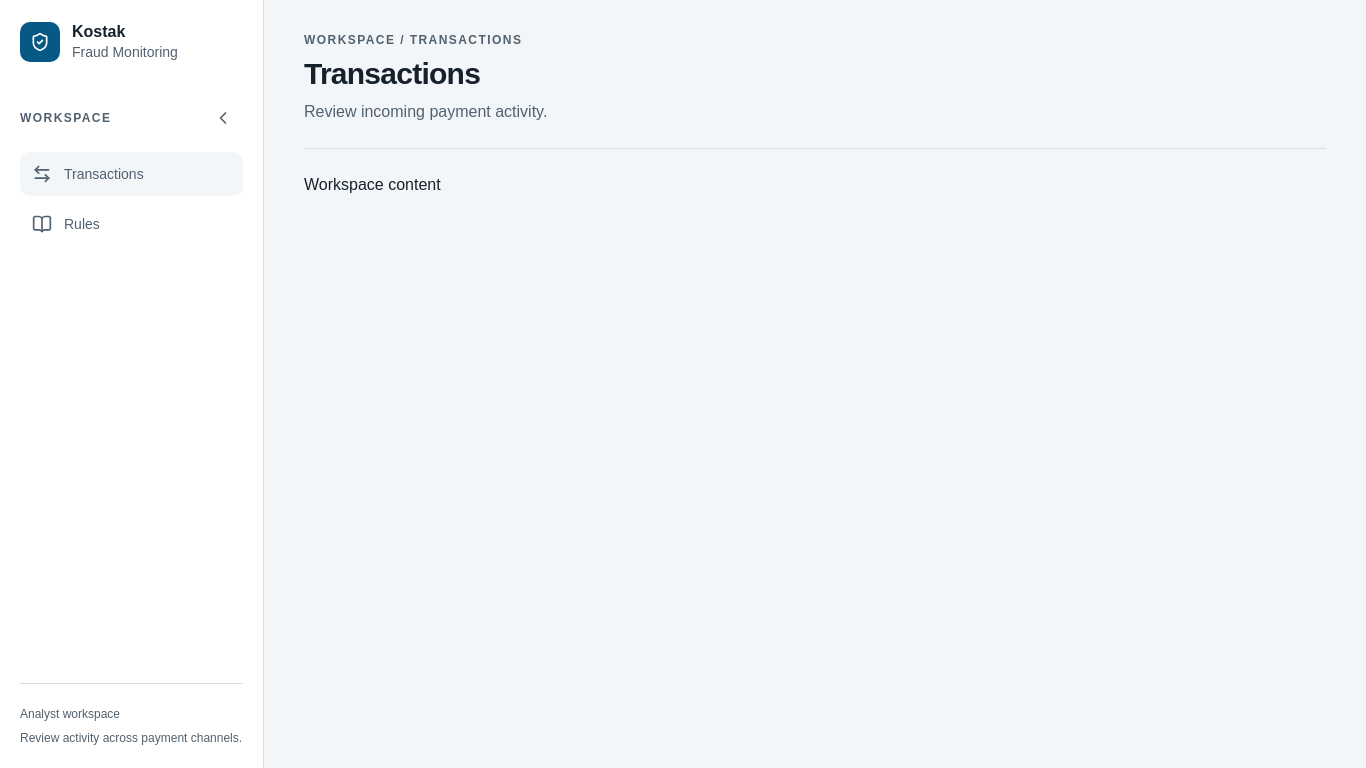
AppShell › collapses and expands the sidebar with an accessible state
This screenshot has width=1366, height=768.
Click the button named "Collapse sidebar": (223, 118) x1=203 y1=98 x2=243 y2=138
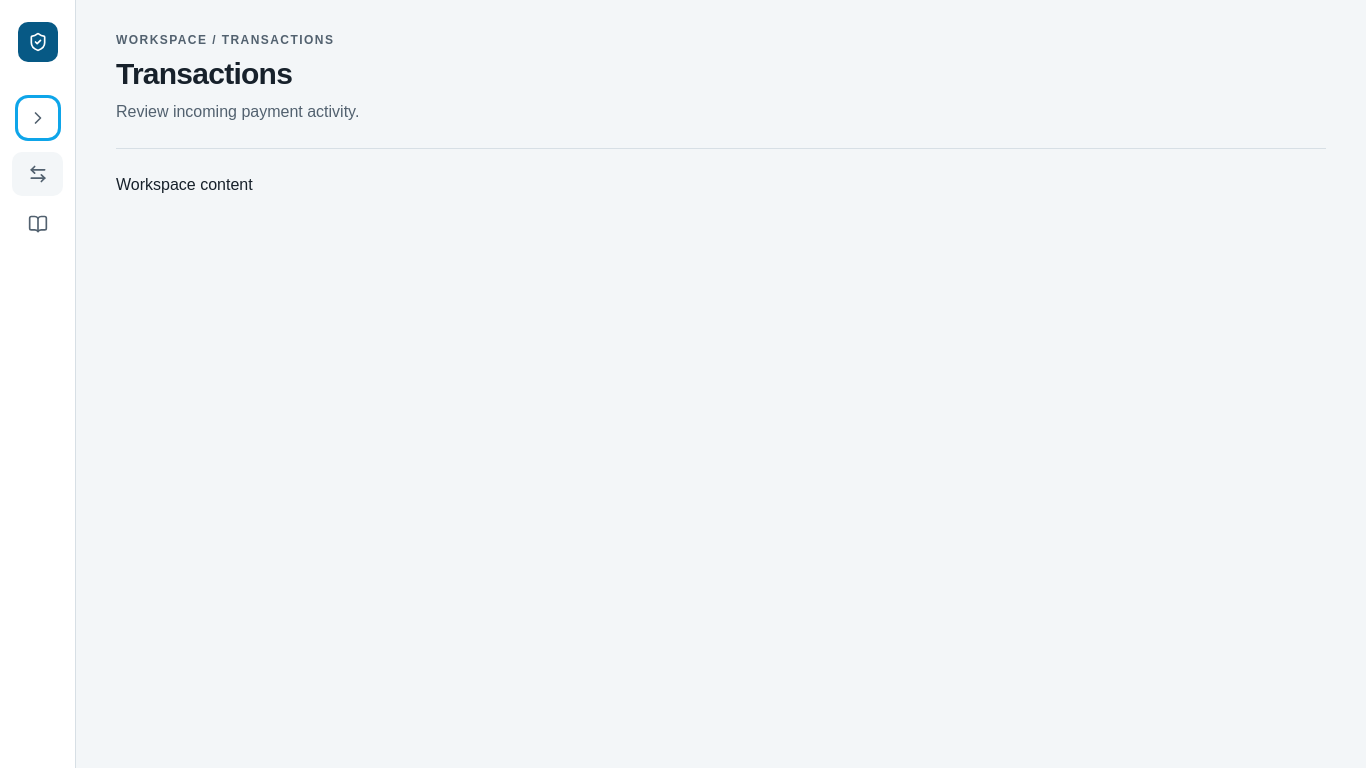
Check: the link named "Transactions" is shown, box x1=12 y1=152 x2=63 y2=196
Check: the button named "Expand sidebar" is collapsed
Click the button named "Expand sidebar": (38, 118) x1=18 y1=98 x2=58 y2=138
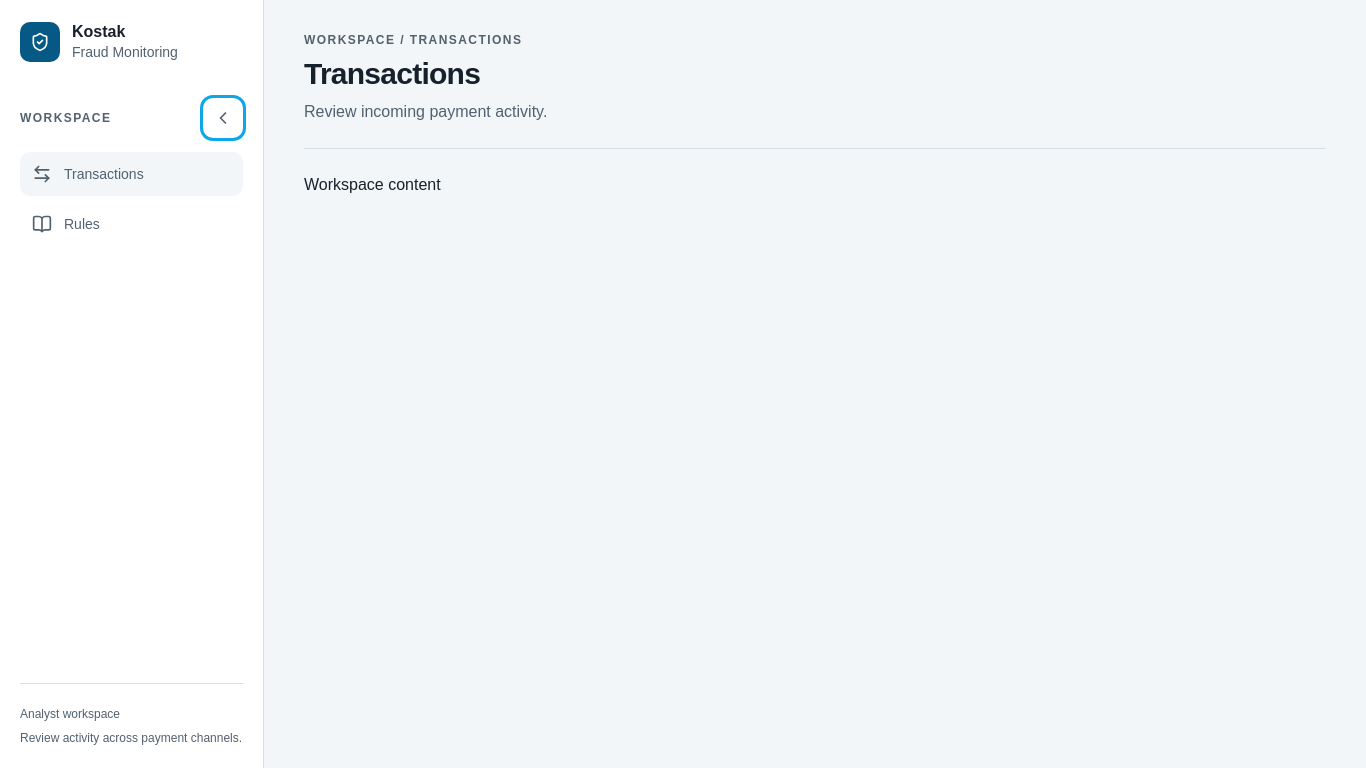
Check: the button named "Collapse sidebar" is expanded, box x1=203 y1=98 x2=243 y2=138
